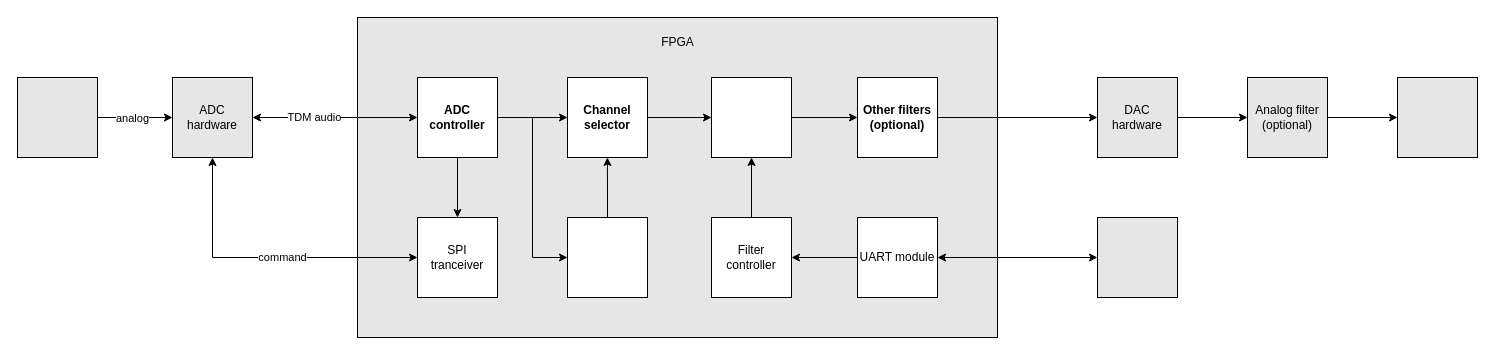
This 1495x355 diagram has some shape labels left out. The shapes that lost their labels are listed below. From the top down, each one's box as (x1, y1, x2, y2) in pixels, then its label:
(16, 76, 98, 158): Microphones
(710, 76, 792, 158): Config filter
(1396, 76, 1478, 158): Speaker
(566, 216, 648, 298): FFT
(1096, 216, 1178, 298): PC
